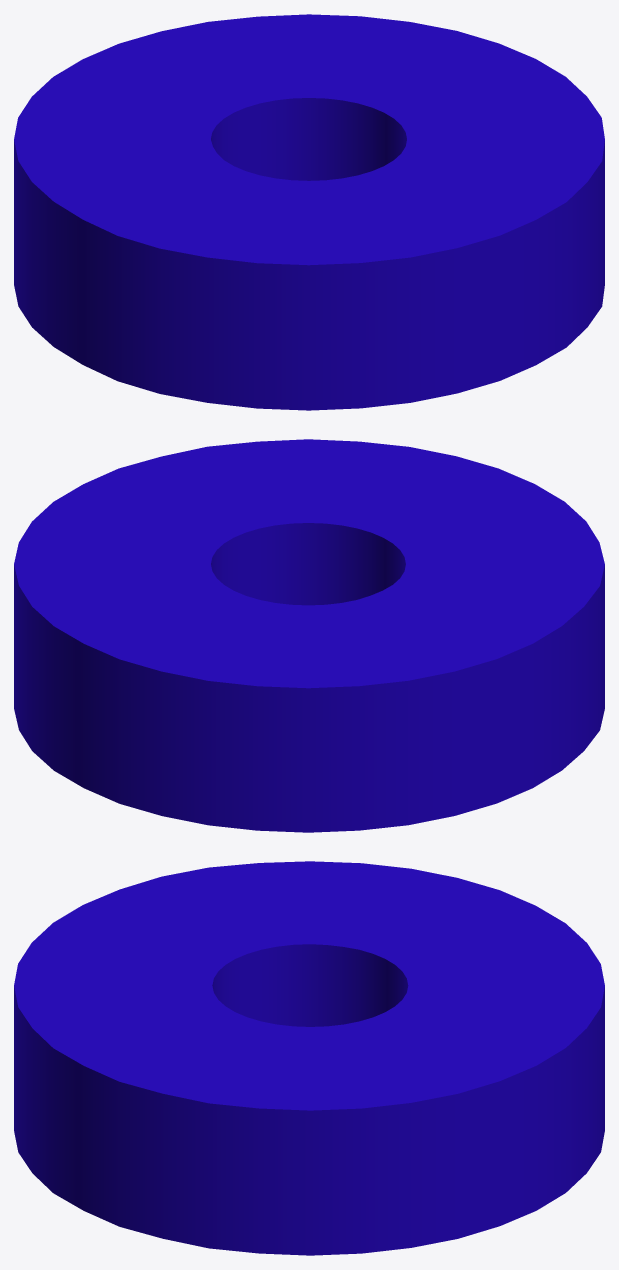
Rendered from SM_Police_Line_twisted_1.FBX.
3 views of the same model, one above another, from view 1: azimuth 30°, elevation 25°; view 2: azimuth 150°, elevation 25°; view 3: azimuth 270°, elevation 25° (orthographic).
Parts seen in each view (by area): view 1: Police_Line_twisted_1; view 2: Police_Line_twisted_1; view 3: Police_Line_twisted_1.
Boxes of the visible parts, x1,y1,x2,y2 form: Police_Line_twisted_1: (14, 14, 604, 410); Police_Line_twisted_1: (14, 439, 604, 832); Police_Line_twisted_1: (14, 861, 604, 1255).
Bounding box in the file's own units: 19.26 × 5.23 × 19.3.
